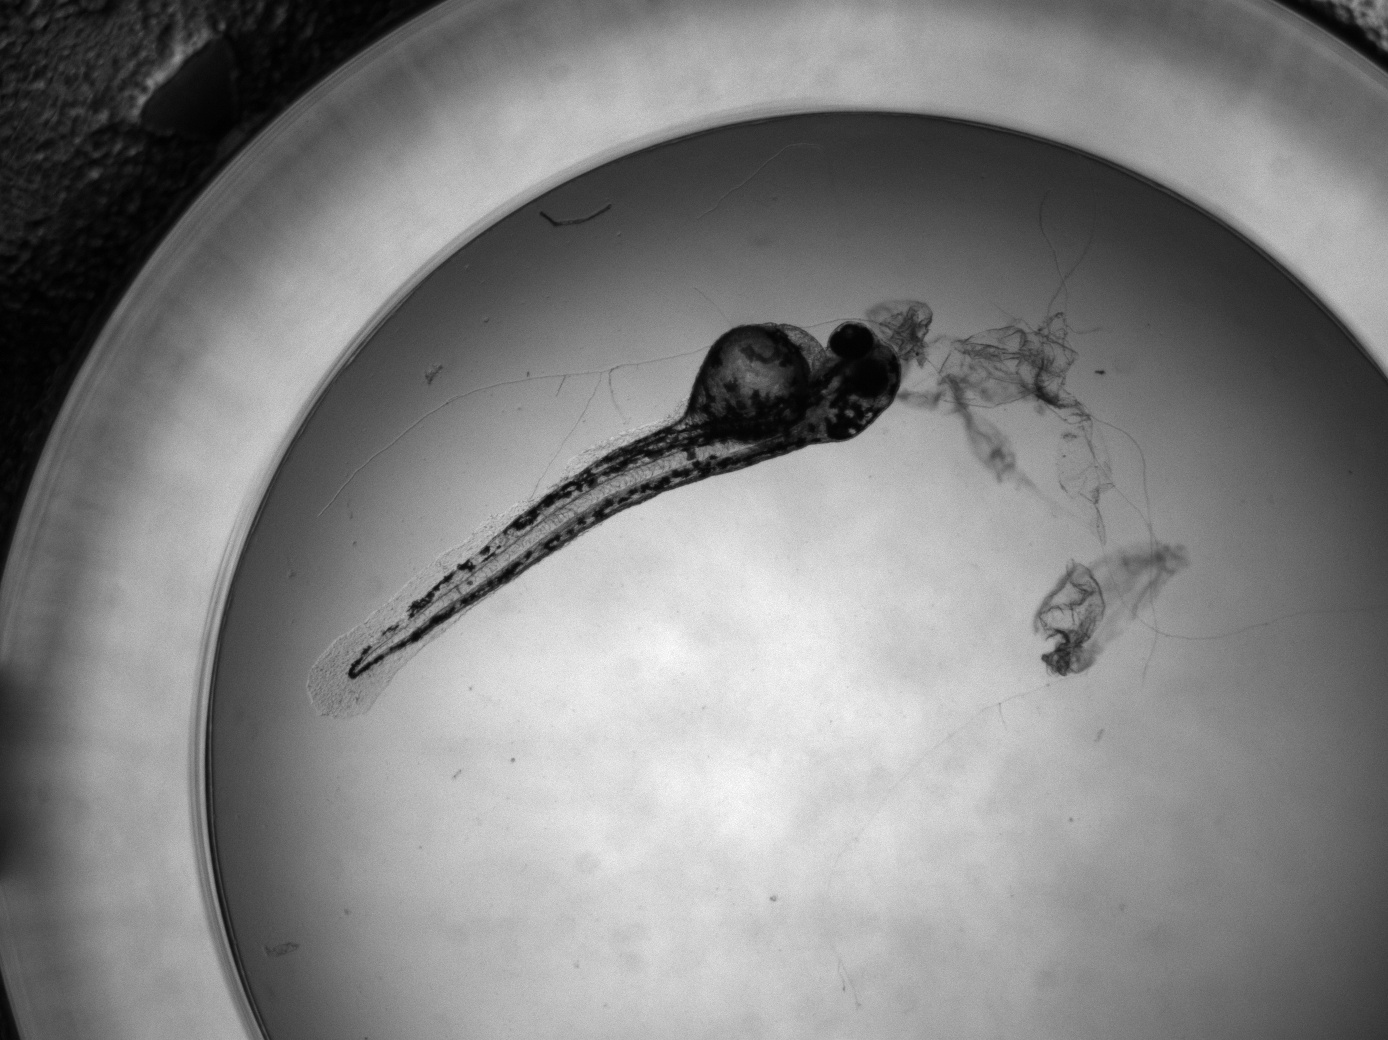debris: (866, 298, 1122, 503), (1031, 539, 1190, 677)
embryo: (348, 319, 902, 681)
eye: (829, 322, 874, 361), (851, 361, 887, 398)
yolksac: (689, 323, 825, 439)
